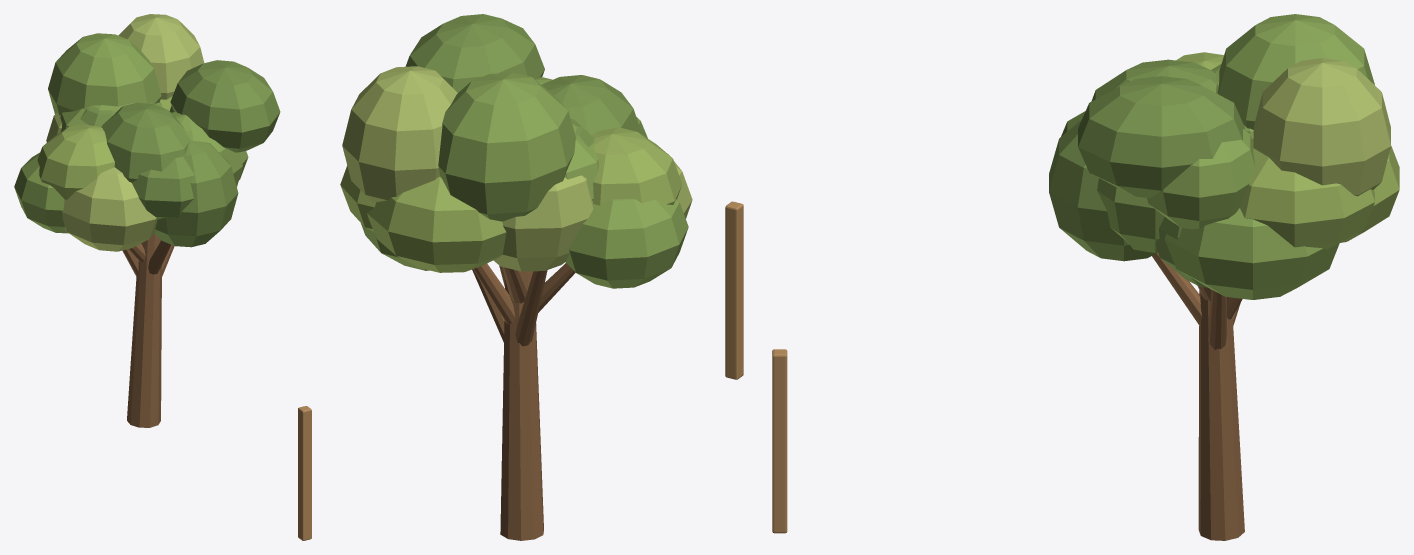
Rendered from SM_RelaxedNeighborHouse_HammockSupports.fbx.
3 renders of one model, left to right at view 1: azimuth 30°, elevation 25°; view 2: azimuth 150°, elevation 25°; view 3: azimuth 270°, elevation 25°, orthographic. The views are drawn at different scales.
Visible parts, largest first — view 1: SM_RelaxedNeighborHouse_HammockSupports; view 2: SM_RelaxedNeighborHouse_HammockSupports; view 3: SM_RelaxedNeighborHouse_HammockSupports.
Part boxes in pixels (x1=…): SM_RelaxedNeighborHouse_HammockSupports: x1=14, y1=14, x2=311, y2=540; SM_RelaxedNeighborHouse_HammockSupports: x1=340, y1=14, x2=743, y2=540; SM_RelaxedNeighborHouse_HammockSupports: x1=772, y1=14, x2=1399, y2=540.
Size of what is drawn, in the model's own units: 384 by 667 by 590.
